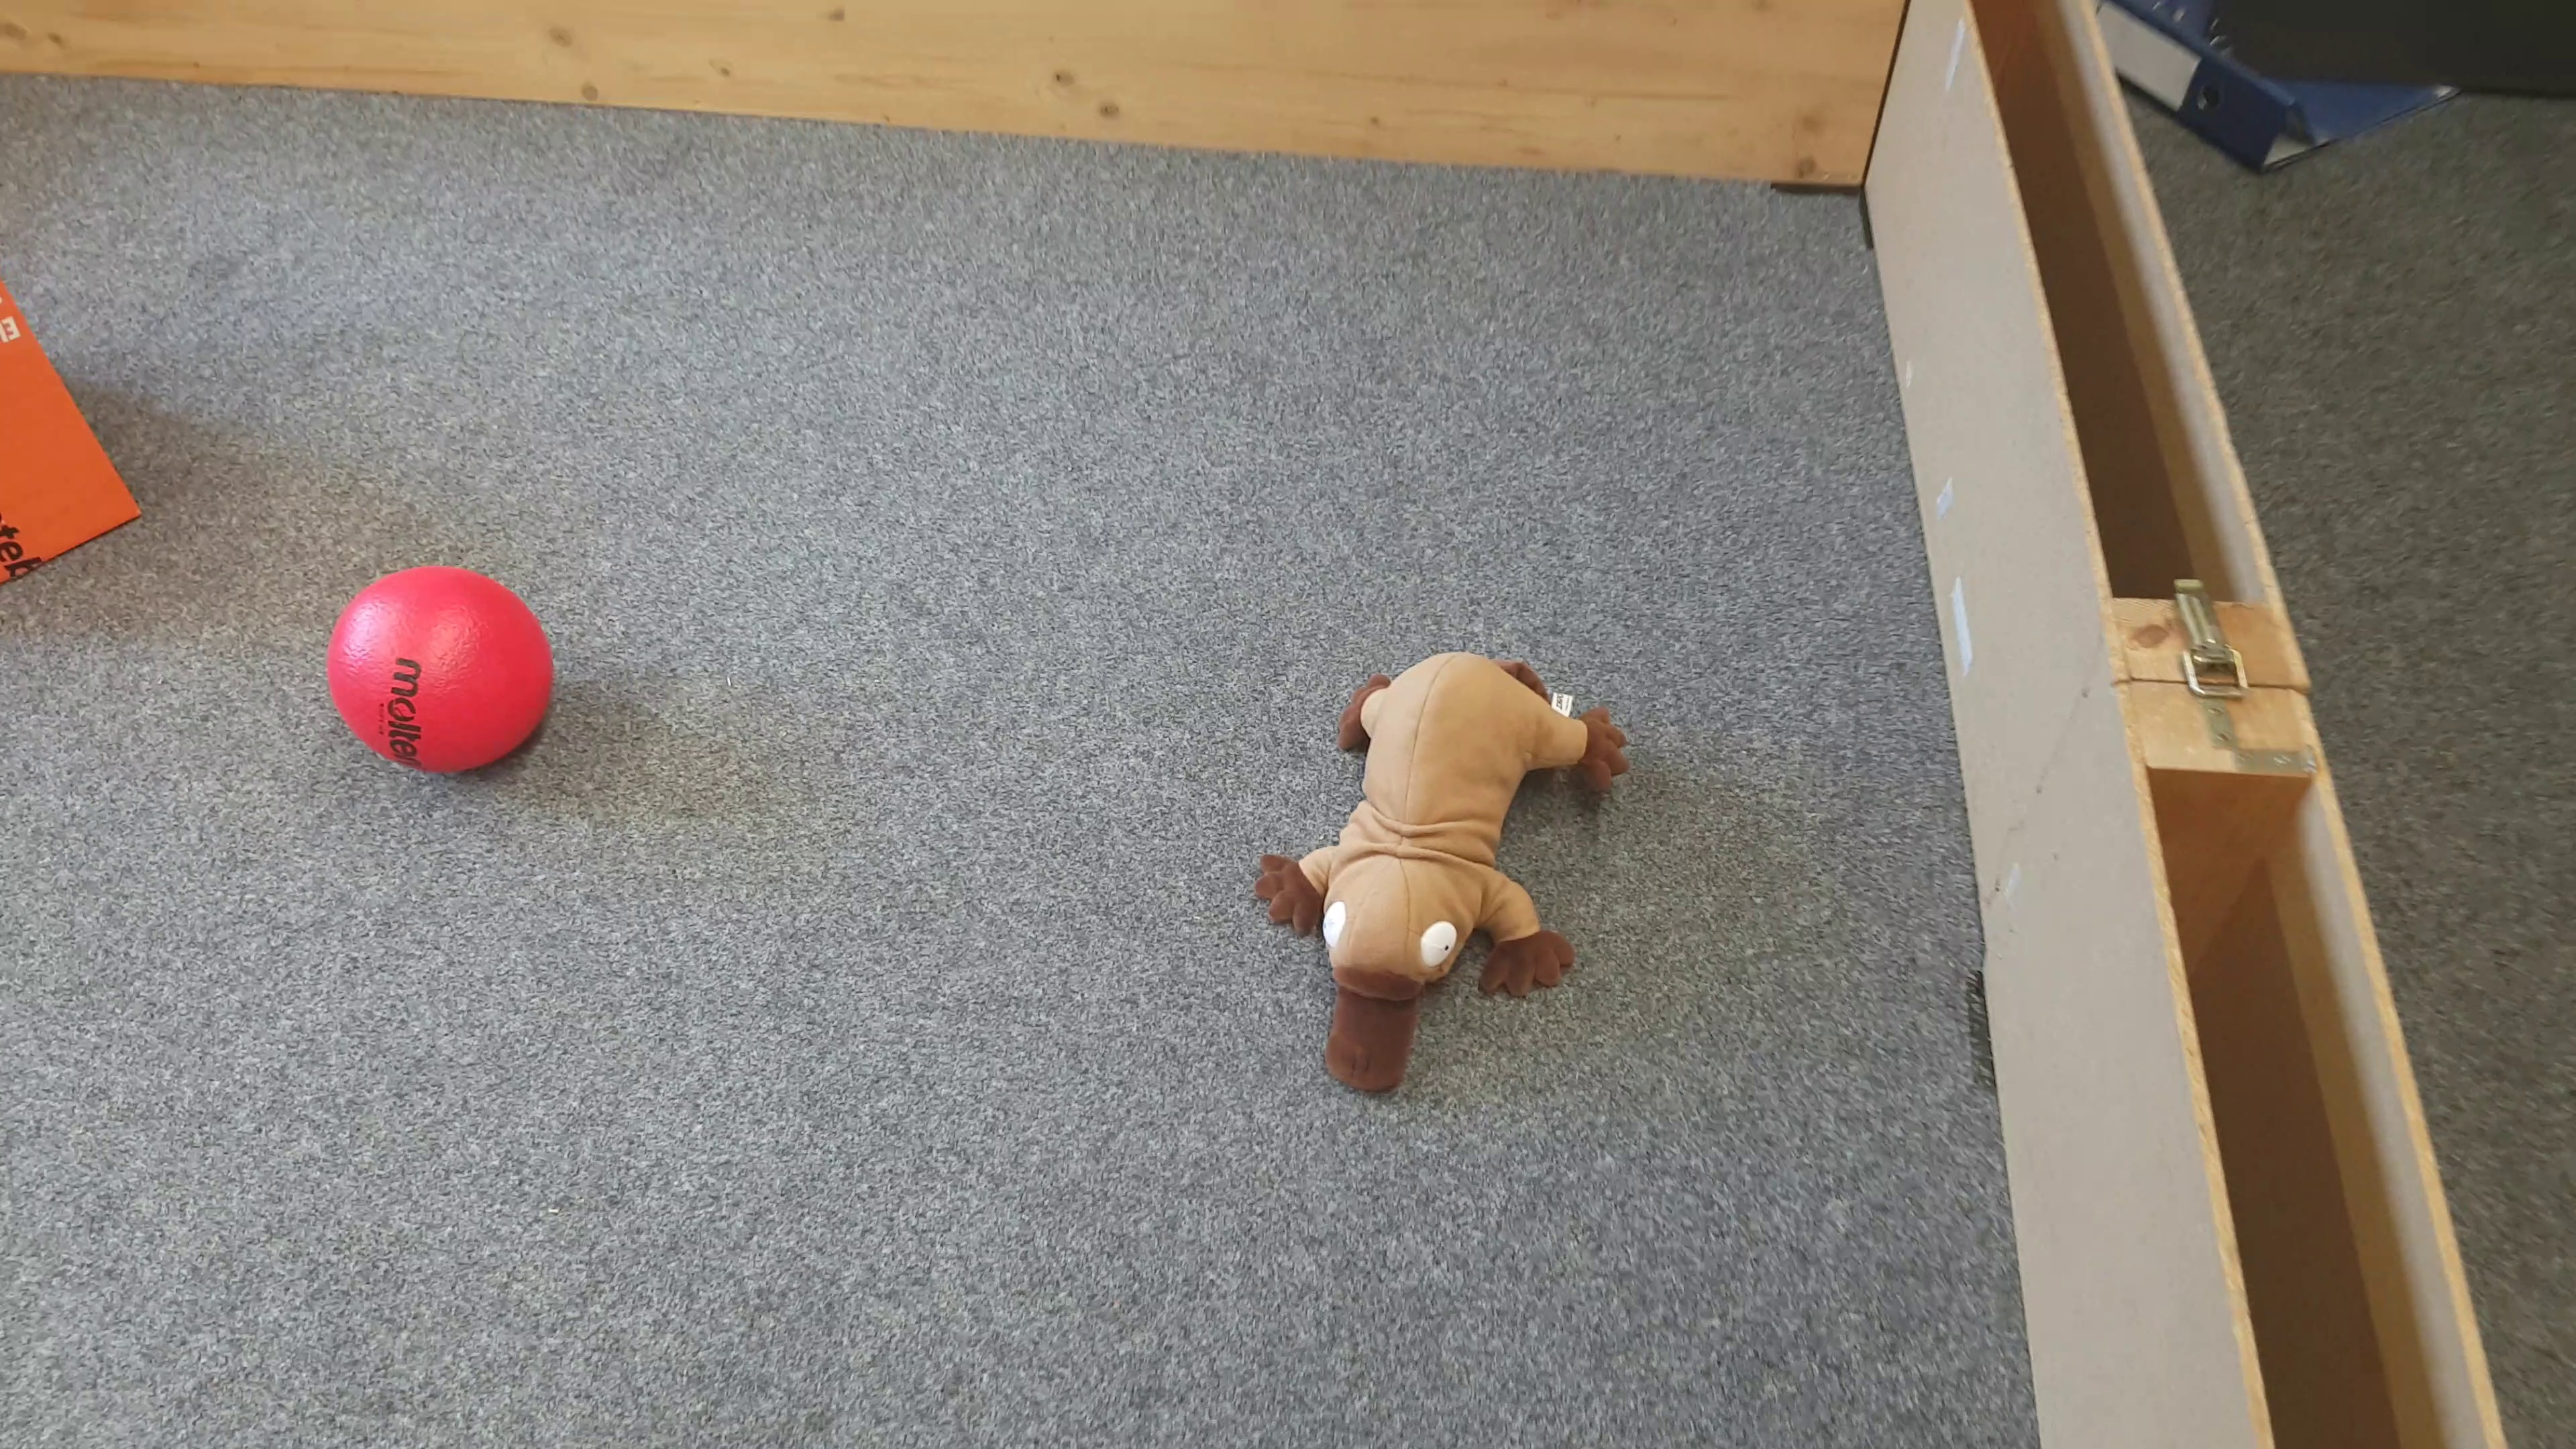grasp: (1258, 646, 1631, 1102)
kick: (322, 568, 561, 773)
push: (0, 278, 113, 579)
